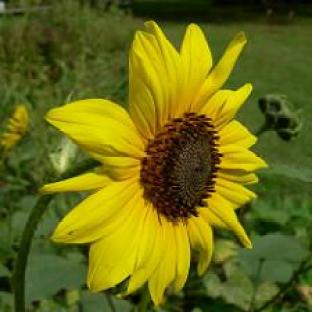sunflower: (39, 21, 269, 306)
